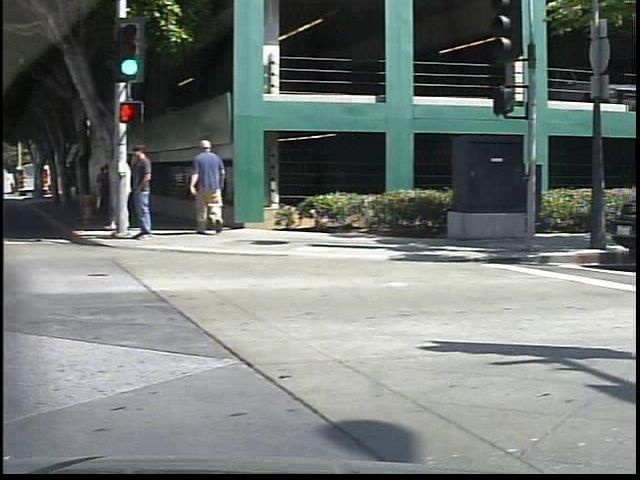person: (191, 136, 244, 236), (130, 140, 169, 246), (116, 145, 140, 234)
